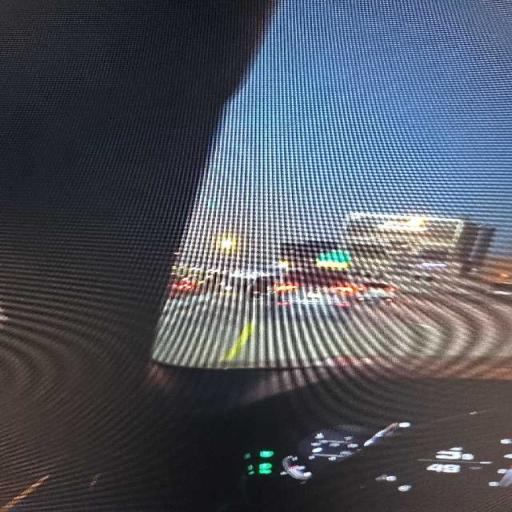car: (355, 283, 396, 303)
lane: (154, 284, 511, 370)
